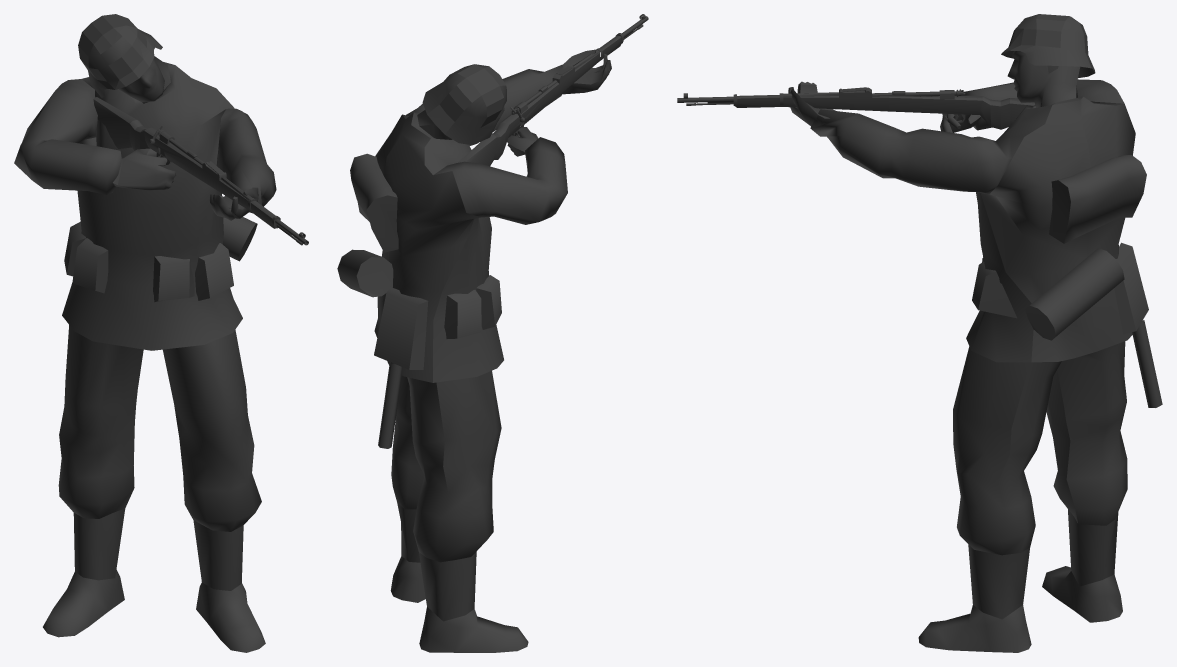
Rendered from de_fucile_piedi.glb.
3 views of the same model, side by side, from view 1: azimuth 30°, elevation 25°; view 2: azimuth 150°, elevation 25°; view 3: azimuth 270°, elevation 25° (orthographic). The views are drawn at different scales.
Parts seen in each view (by area): view 1: german_03.000_german_03.002_2; view 2: german_03.000_german_03.002_2; view 3: german_03.000_german_03.002_2.
Boxes of the visible parts, left/top/right/bottom form: german_03.000_german_03.002_2: left=14, top=14, right=308, bottom=652; german_03.000_german_03.002_2: left=337, top=14, right=648, bottom=652; german_03.000_german_03.002_2: left=677, top=14, right=1162, bottom=652.
Bounding box in the file's own units: 0.2058 × 0.5 × 0.3719.
Materials: 1 (1 with a texture image).
